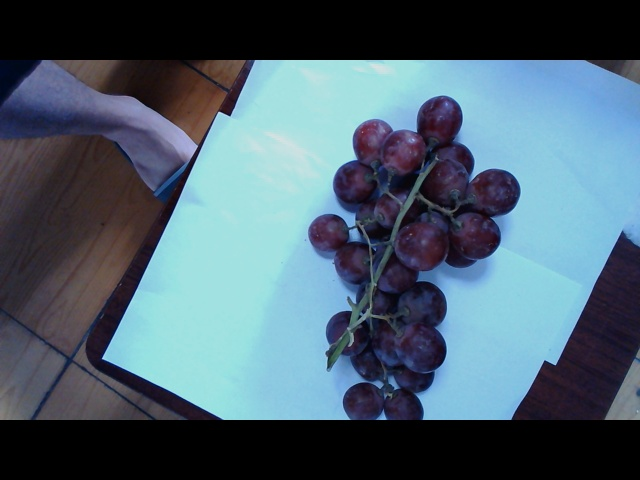grape: (308, 99, 515, 414)
